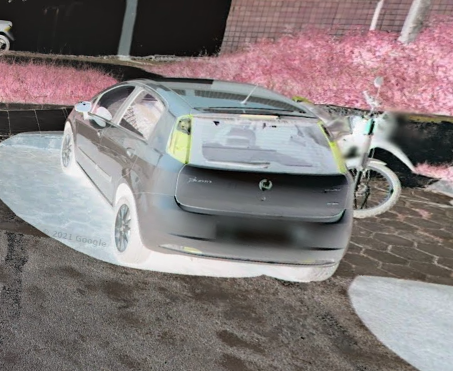car: (56, 76, 359, 287)
